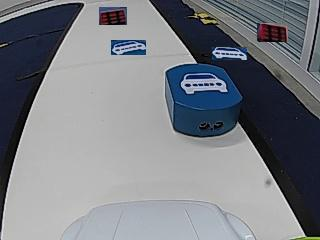safety: (179, 72, 228, 94)
